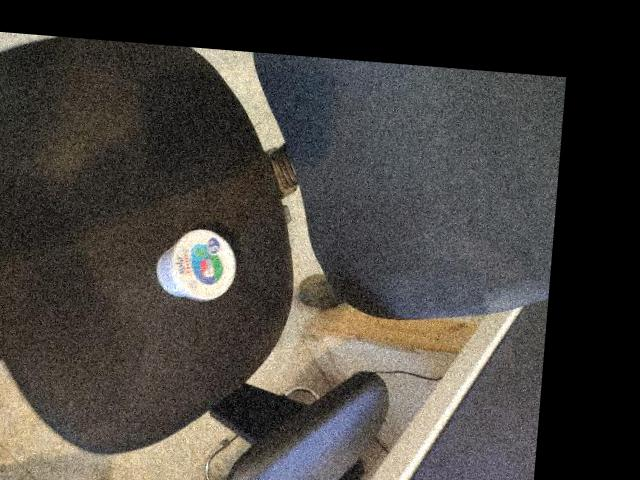cotage: (137, 211, 244, 306)
